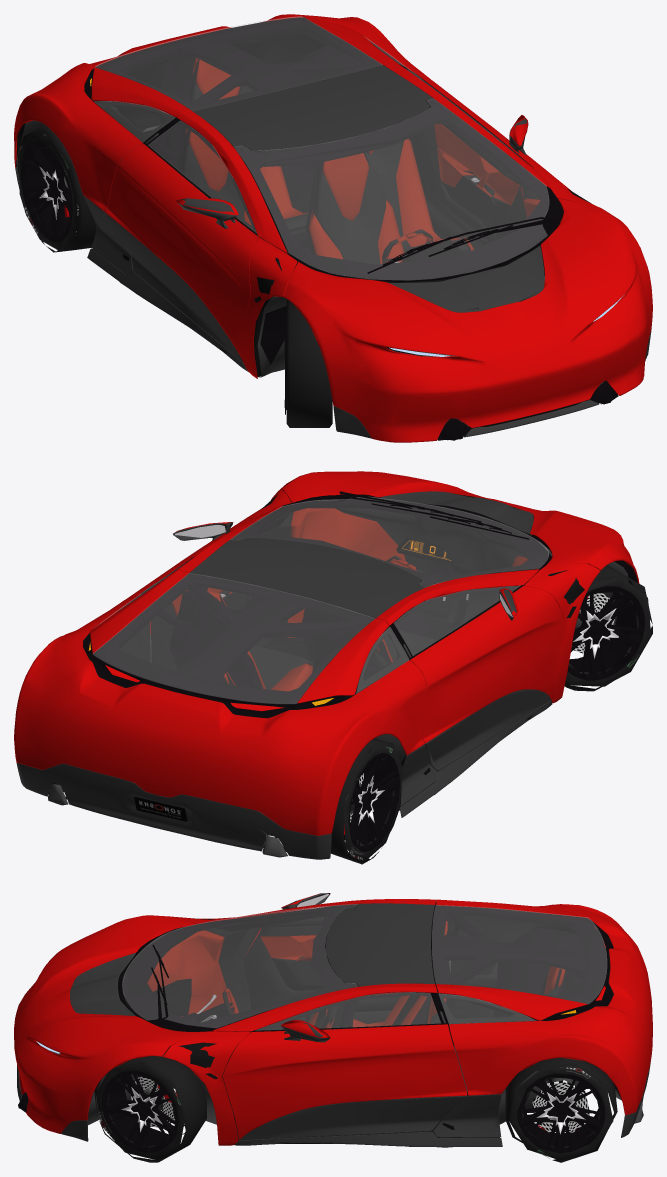
File: car_concept.gltf
The picture shows the model from 3 angles, top to bottom: view 1: azimuth 30°, elevation 25°; view 2: azimuth 150°, elevation 25°; view 3: azimuth 270°, elevation 25°; orthographic projection. The views are drawn at different scales.
Parts seen in each view (by area): view 1: BodyHood, BodyWindshield, BodyRearwindow, BodyDoorRColor1, BodyRearPanelsColor1, BodyRoofPanel, BodyWindshieldGasket, InteriorSeatsColor1, BodyPillars, InteriorSeatsColor2, InteriorPillar, InteriorRearHatch (+23 smaller); view 2: BodyRearPanelsColor1, BodyRearwindow, BodyWindshield, BodyDoorRColor1, BodyPanelsColor2, BodyRoofPanel, BodyHood, InteriorRearHatch, InteriorPillar, BodyPillars, InteriorDashMid, BodyWindshieldGasket (+23 smaller); view 3: BodyRearPanelsColor1, BodyWindshield, BodyDoorLColor1, BodyHood, BodyRearwindow, BodyRoofPanel, BodyPillars, BodyWindshieldGasket, BodyDoorLColor2, BodyPanelsColor2, InteriorMid, InteriorRearHatch (+26 smaller).
Boxes of the visible parts, x1=… form: BodyHood: x1=283, y1=198, x2=652, y2=442; BodyWindshield: x1=234, y1=98, x2=548, y2=280; BodyRearwindow: x1=95, y1=16, x2=382, y2=111; BodyDoorRColor1: x1=104, y1=143, x2=257, y2=363; BodyRearPanelsColor1: x1=14, y1=14, x2=430, y2=211; BodyRoofPanel: x1=194, y1=65, x2=432, y2=150; BodyWindshieldGasket: x1=234, y1=99, x2=563, y2=282; InteriorSeatsColor1: x1=185, y1=58, x2=474, y2=264; BodyPillars: x1=176, y1=61, x2=597, y2=378; InteriorSeatsColor2: x1=182, y1=78, x2=469, y2=264; InteriorPillar: x1=158, y1=37, x2=434, y2=169; InteriorRearHatch: x1=94, y1=17, x2=383, y2=118; BodyRearPanelsColor1: x1=14, y1=570, x2=426, y2=835; BodyRearwindow: x1=93, y1=573, x2=374, y2=703; BodyWindshield: x1=230, y1=497, x2=548, y2=587; BodyDoorRColor1: x1=410, y1=585, x2=563, y2=743; BodyPanelsColor2: x1=16, y1=700, x2=552, y2=859; BodyRoofPanel: x1=190, y1=538, x2=423, y2=618; BodyHood: x1=280, y1=471, x2=639, y2=583; InteriorRearHatch: x1=93, y1=573, x2=374, y2=708; InteriorPillar: x1=174, y1=574, x2=418, y2=682; BodyPillars: x1=175, y1=489, x2=600, y2=703; InteriorDashMid: x1=335, y1=508, x2=528, y2=622; BodyWindshieldGasket: x1=231, y1=497, x2=552, y2=588; BodyRearPanelsColor1: x1=436, y1=899, x2=652, y2=1115; BodyWindshield: x1=122, y1=904, x2=357, y2=1027; BodyDoorLColor1: x1=222, y1=1024, x2=467, y2=1139; BodyHood: x1=14, y1=915, x2=196, y2=1133; BodyRearwindow: x1=432, y1=905, x2=606, y2=1003; BodyRoofPanel: x1=326, y1=903, x2=434, y2=986; BodyPillars: x1=163, y1=899, x2=437, y2=1145; BodyWindshieldGasket: x1=118, y1=905, x2=357, y2=1032; BodyDoorLColor2: x1=240, y1=1095, x2=467, y2=1140; BodyPanelsColor2: x1=17, y1=1054, x2=651, y2=1147; InteriorMid: x1=178, y1=918, x2=499, y2=1143; InteriorRearHatch: x1=432, y1=905, x2=606, y2=1020.
Bounding box in the file's own units: 2.54 × 1.15 × 4.36.
Materials: 23 (6 with a texture image).
